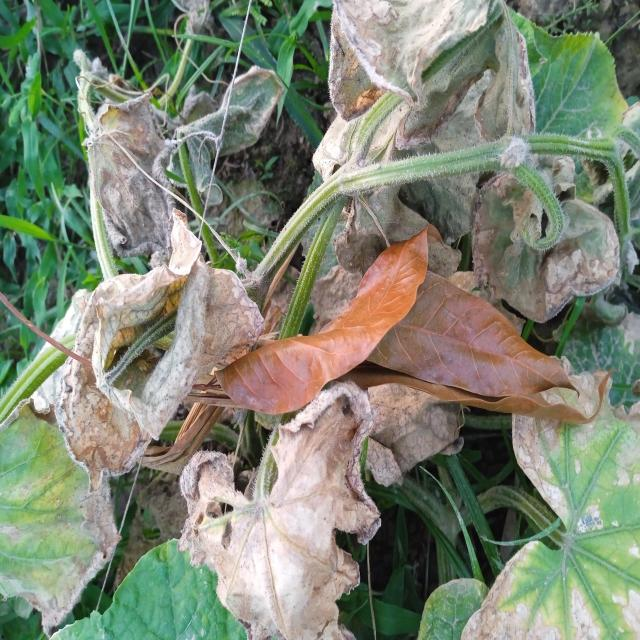cucumber_bacterial: (182, 407, 416, 640), (464, 406, 640, 640), (320, 0, 540, 169), (26, 288, 266, 432), (70, 57, 201, 255), (482, 187, 620, 309)
